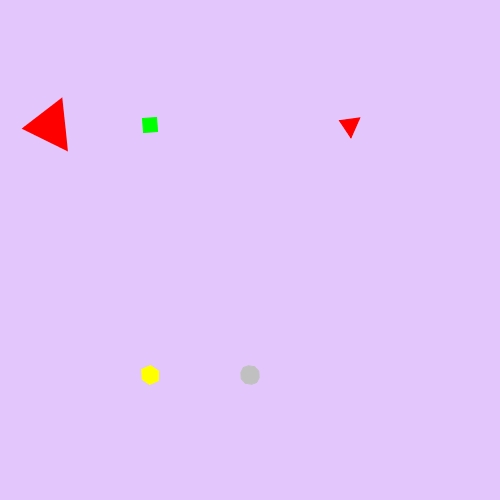decagon: (235, 361, 265, 389)
hexagon: (135, 362, 165, 388)
quadrilateral: (135, 110, 165, 140)
triangle: (24, 97, 77, 153), (336, 110, 364, 140)
